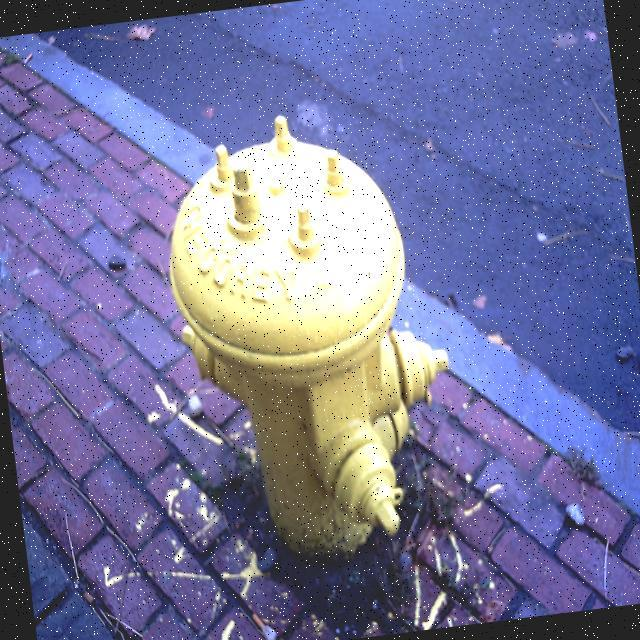fire_hydrant: (152, 93, 472, 577)
